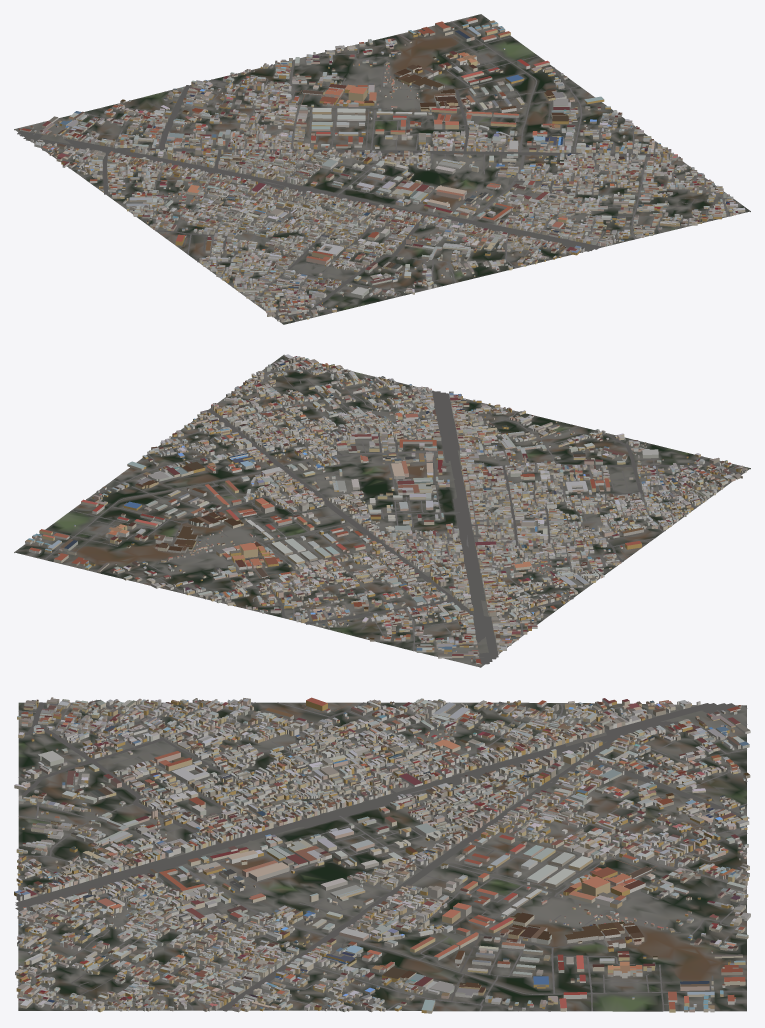
3 views of the same model, one above another, from view 1: azimuth 30°, elevation 25°; view 2: azimuth 150°, elevation 25°; view 3: azimuth 270°, elevation 25° (orthographic). The views are drawn at different scales.
Visible parts, largest first — view 1: buildings, ground, roads; view 2: buildings, ground, roads; view 3: buildings, ground, roads.
Boxes of the visible parts, x1,y1,x2,y2 form: buildings: [18, 17, 745, 322]; ground: [14, 14, 750, 324]; roads: [16, 21, 733, 321]; buildings: [25, 354, 747, 665]; ground: [14, 354, 750, 667]; roads: [44, 360, 742, 666]; buildings: [14, 697, 750, 1013]; ground: [18, 702, 746, 1011]; roads: [15, 701, 749, 1011].
Size of the model in its own units: 1423 by 30.67 by 1417.
